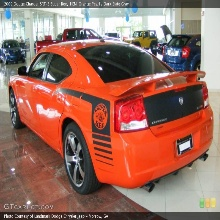no damage: (8, 38, 214, 195)
